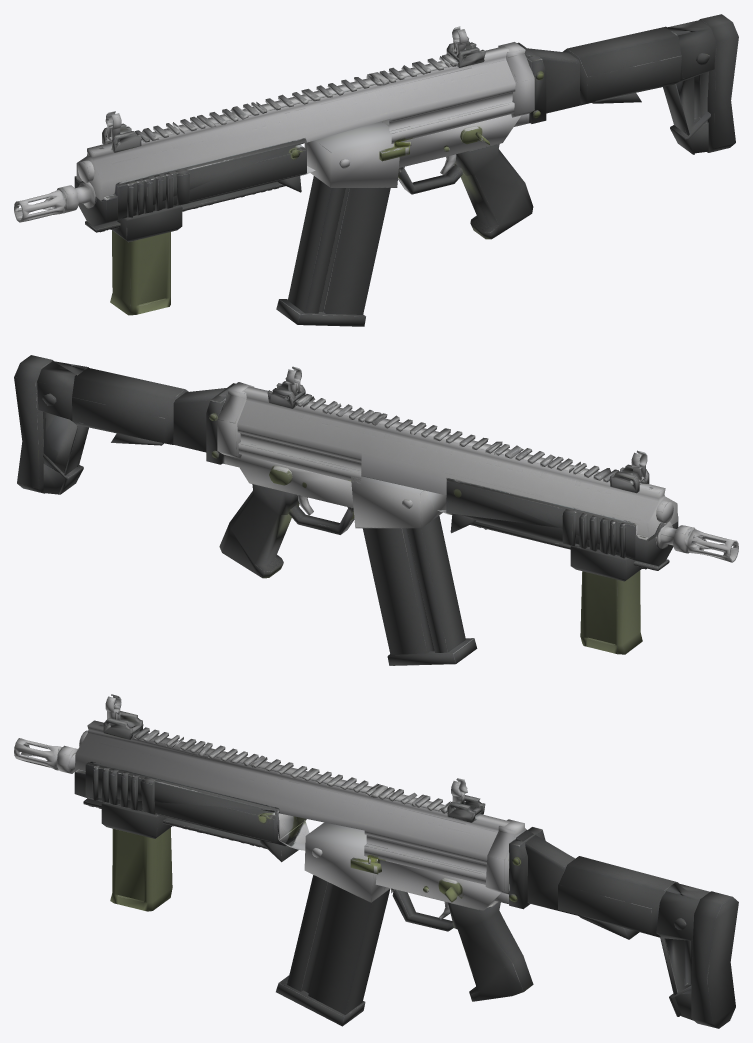
Rendered from smg_razor.glb.
The picture shows the model from 3 angles, top to bottom: view 1: azimuth 30°, elevation 25°; view 2: azimuth 150°, elevation 25°; view 3: azimuth 330°, elevation 25°; orthographic projection.
Bounding box in the file's own units: 0.9575 × 0.3413 × 0.0942.
Materials: 1 (1 with a texture image).
